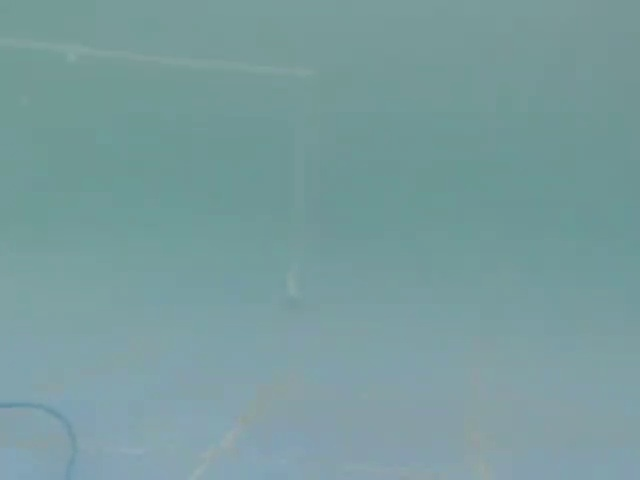gate: (0, 0, 317, 325)
